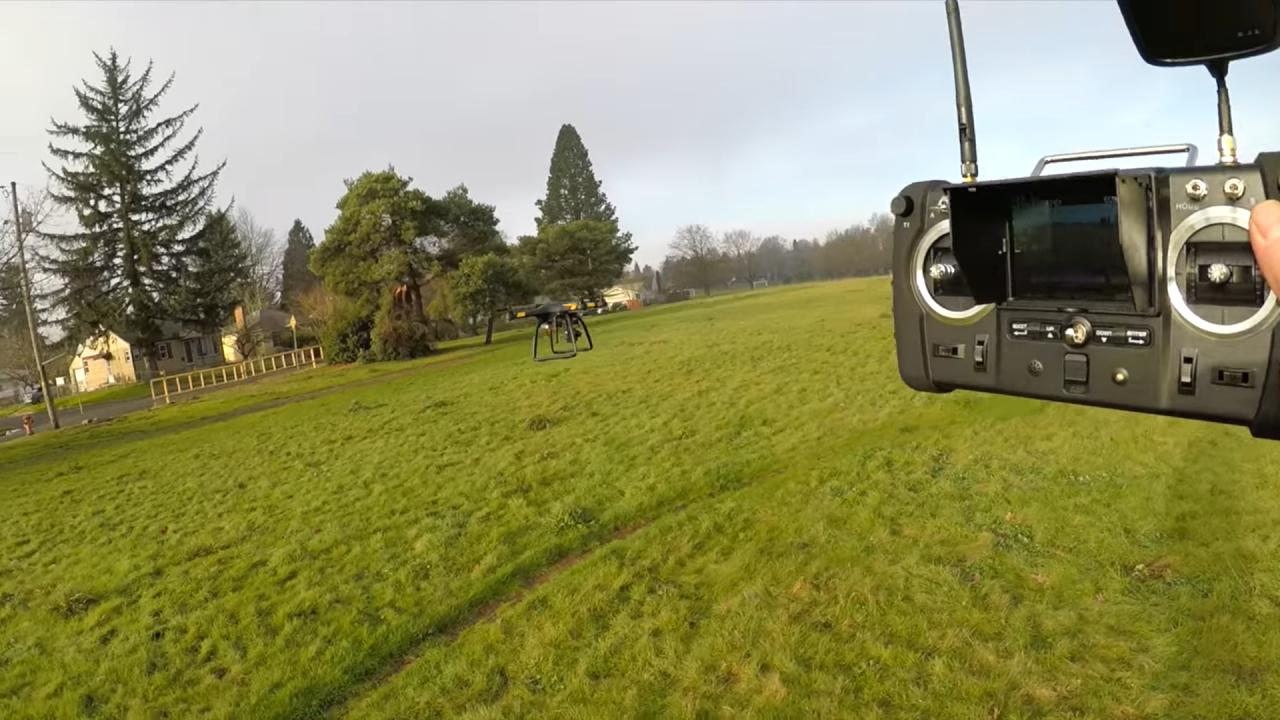Drone: (492, 287, 622, 374)
